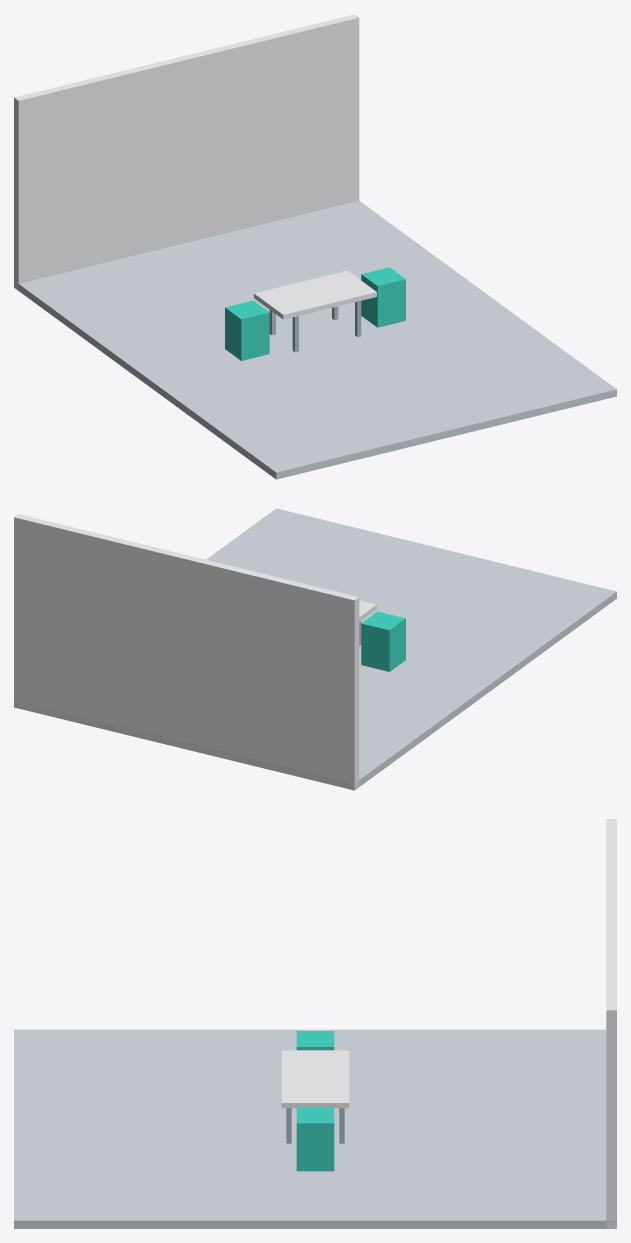
3 renders of one model, top to bottom at view 1: azimuth 30°, elevation 25°; view 2: azimuth 150°, elevation 25°; view 3: azimuth 270°, elevation 25°, orthographic. The views are drawn at different scales.
Visible parts, largest first — view 1: Exhibition Booth Concept; view 2: Exhibition Booth Concept; view 3: Exhibition Booth Concept.
Boxes of the visible parts, x1,y1,x2,y2 form: Exhibition Booth Concept: [14, 14, 616, 479]; Exhibition Booth Concept: [14, 508, 616, 790]; Exhibition Booth Concept: [14, 819, 616, 1228].
Size of the model in its own units: 6 by 3.2 by 8.
